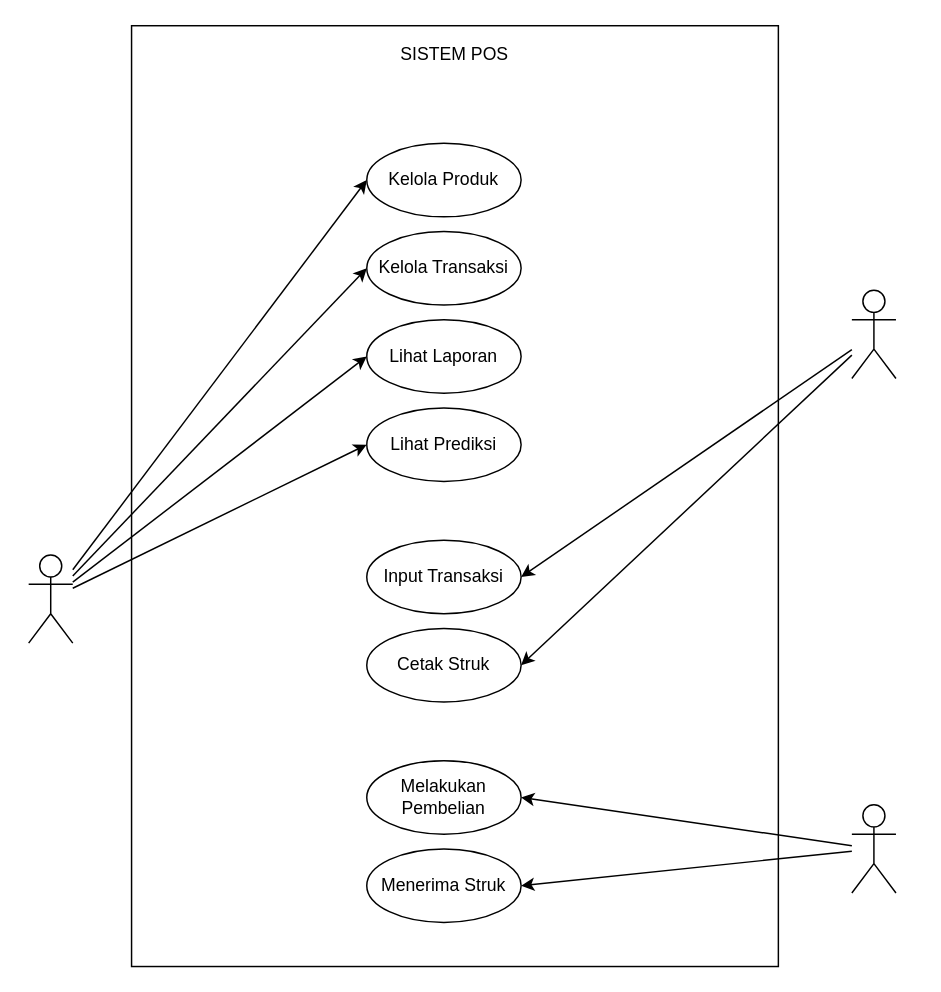
The diagram is 941 pixels wide and 992 high, and some of its shapes have lost their labels. Here are the shapes that lost their labels. From the top down, the box of each, then its label:
(850, 289, 896, 379): Kasir
(27, 553, 73, 643): Admin
(850, 803, 896, 893): Pelanggan
